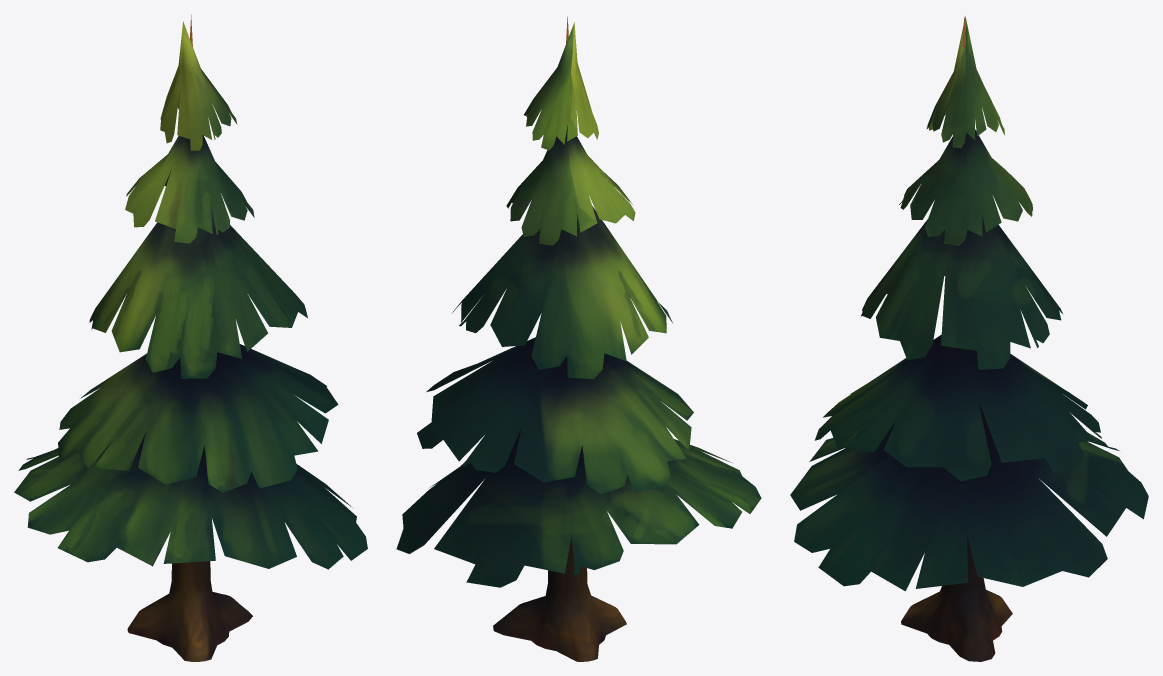
Rendered from ENV_Tree_Small_Pine_001.fbx.
The picture shows the model from 3 angles, left to right: view 1: azimuth 30°, elevation 25°; view 2: azimuth 150°, elevation 25°; view 3: azimuth 270°, elevation 25°; orthographic projection.
Parts seen in each view (by area): view 1: ENV_Tree_Small_Pine_001; view 2: ENV_Tree_Small_Pine_001; view 3: ENV_Tree_Small_Pine_001.
Part boxes in pixels (x1,y1,x2,y2): ENV_Tree_Small_Pine_001: (14,14,367,661); ENV_Tree_Small_Pine_001: (396,16,761,661); ENV_Tree_Small_Pine_001: (790,16,1148,661).
Size of the model in its own units: 155 by 304 by 160.
